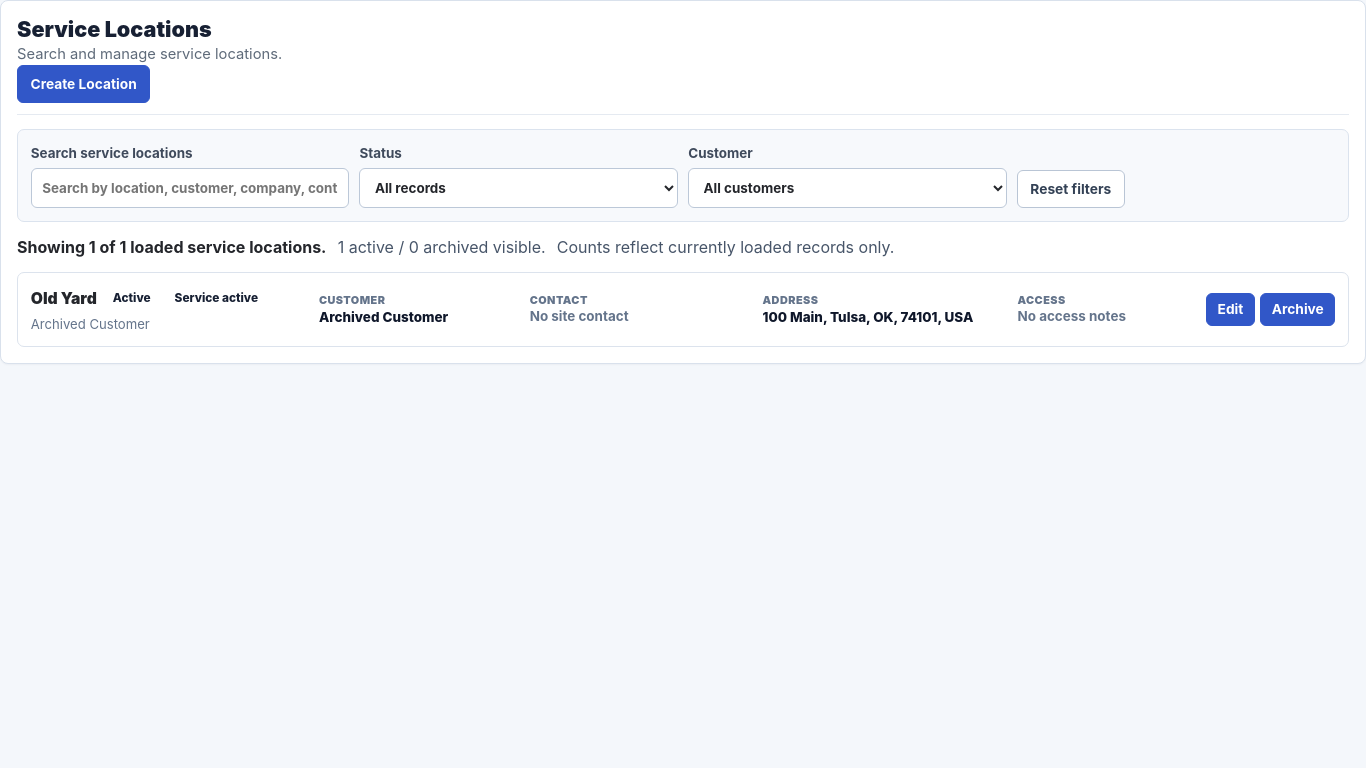
Test: Manager/Admin master-data filter defaults › keeps archived customers out of blank service-location create forms but preserves them while editing
The width and height of the screenshot is (1366, 768).
Click the button "Edit": (1230, 310) x1=1206 y1=293 x2=1255 y2=326
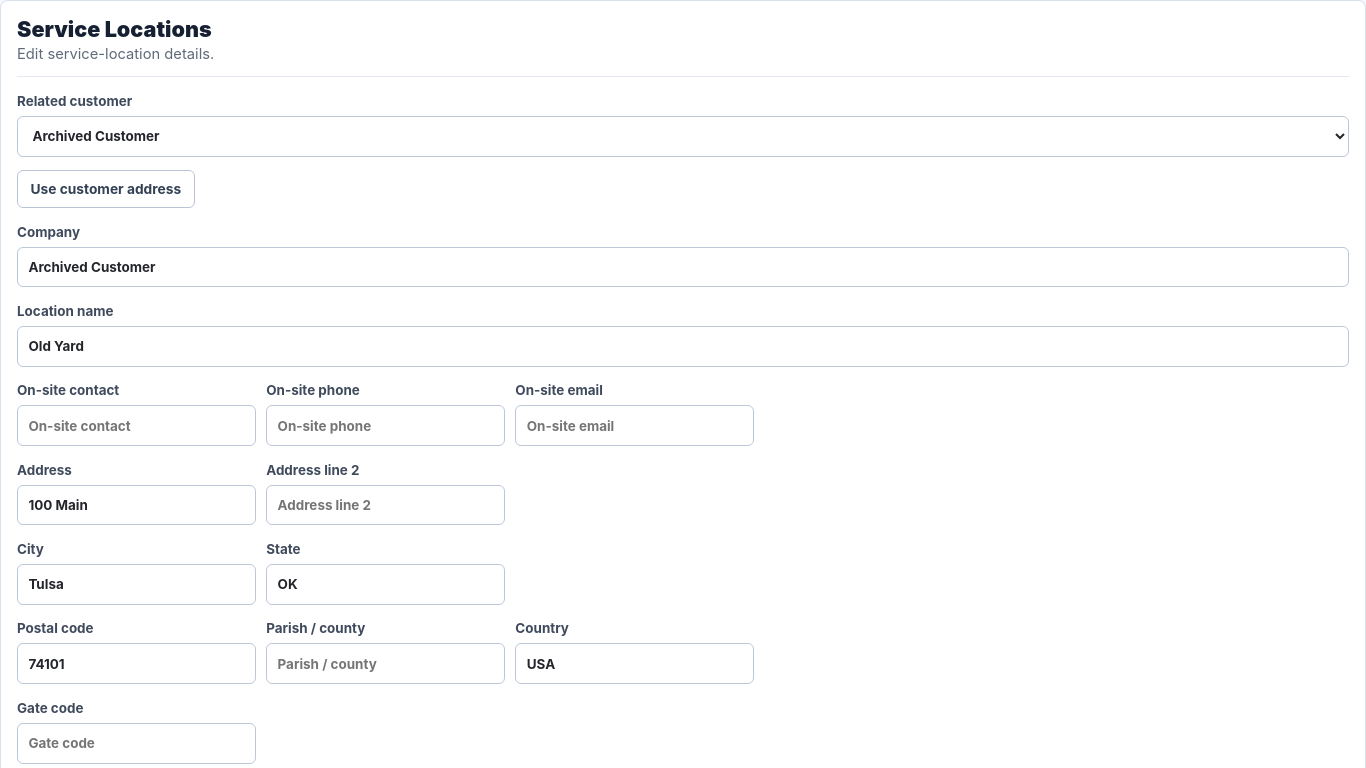
Expected: the dropdown labelled "Related customer" shows "Archived Customer", x1=17 y1=116 x2=1349 y2=156
